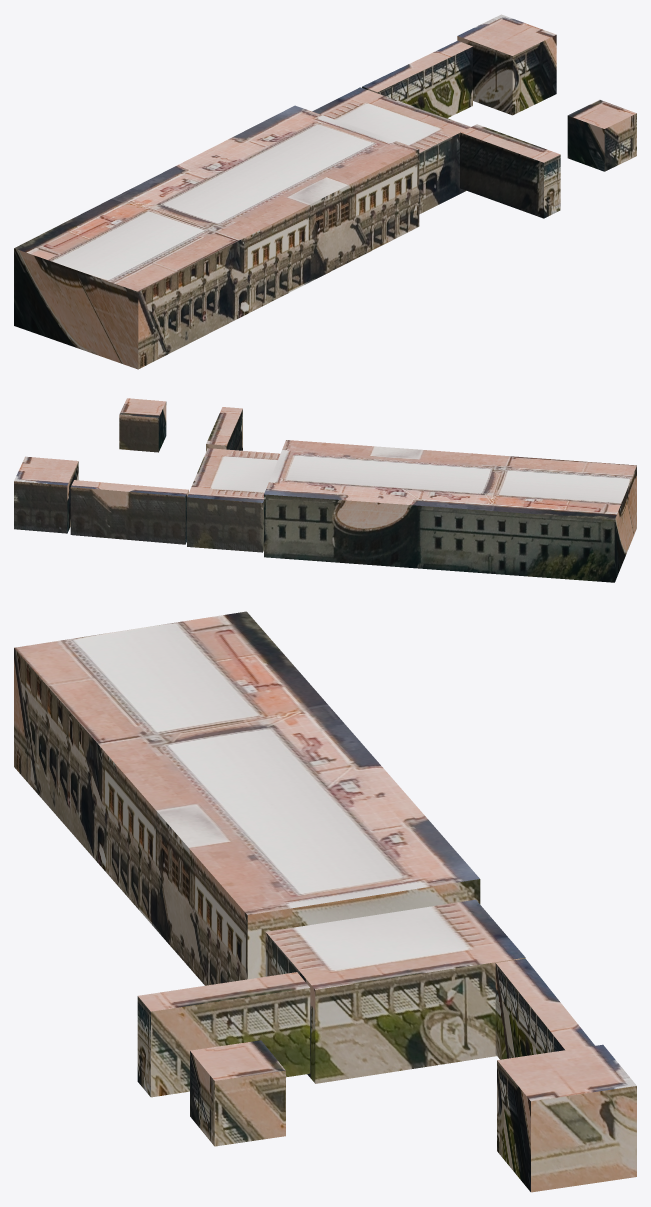
File: Chapul.dae
3 renders of one model, top to bottom at view 1: azimuth 30°, elevation 25°; view 2: azimuth 150°, elevation 25°; view 3: azimuth 270°, elevation 25°, orthographic. The views are drawn at different scales.
Visible parts, largest first — view 1: ID66, ID18, ID127, ID111, ID148, ID119, ID79, ID95, ID34, ID58; view 2: ID66, ID18, ID87, ID127, ID103, ID148, ID119, ID34, ID58, ID111; view 3: ID18, ID66, ID127, ID42, ID148, ID58, ID119, ID79, ID34, ID95, ID111.
Part boxes in pixels (bbox=[...]): ID66: bbox=[14, 149, 419, 369]; ID18: bbox=[14, 105, 418, 291]; ID127: bbox=[457, 14, 556, 115]; ID111: bbox=[460, 132, 560, 218]; ID148: bbox=[312, 87, 470, 152]; ID119: bbox=[567, 100, 636, 171]; ID79: bbox=[377, 46, 472, 118]; ID95: bbox=[419, 133, 466, 214]; ID34: bbox=[362, 40, 472, 93]; ID58: bbox=[460, 124, 560, 162]; ID66: bbox=[264, 466, 636, 582]; ID18: bbox=[264, 440, 636, 519]; ID87: bbox=[70, 487, 185, 544]; ID127: bbox=[14, 456, 78, 533]; ID103: bbox=[187, 497, 262, 552]; ID148: bbox=[187, 448, 280, 502]; ID119: bbox=[119, 398, 166, 452]; ID34: bbox=[71, 480, 188, 543]; ID58: bbox=[206, 407, 242, 445]; ID111: bbox=[206, 409, 242, 451]; ID18: bbox=[14, 611, 479, 915]; ID66: bbox=[14, 648, 480, 985]; ID127: bbox=[497, 1044, 636, 1192]; ID42: bbox=[315, 957, 525, 1083]; ID148: bbox=[266, 899, 525, 989]; ID58: bbox=[138, 972, 310, 1097]; ID119: bbox=[190, 1040, 285, 1146]; ID79: bbox=[495, 963, 564, 1059]; ID34: bbox=[496, 958, 594, 1049]; ID95: bbox=[265, 932, 315, 1083]; ID111: bbox=[137, 996, 150, 1096].
Bounding box in the file's own units: 296 × 34.54 × 164.
3 materials, 3 textured.
